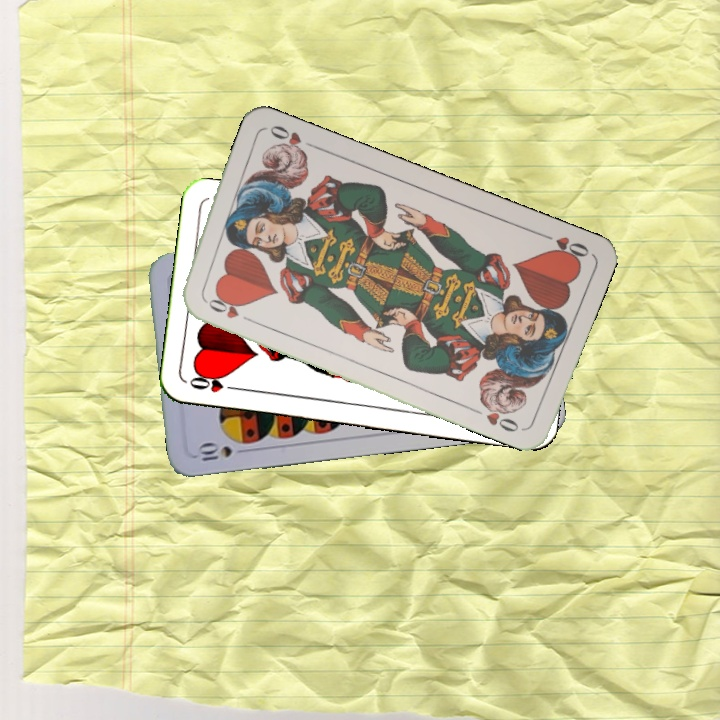HO: (536, 229, 592, 264), (199, 294, 255, 325), (185, 372, 243, 395)
S10: (193, 439, 251, 464)
